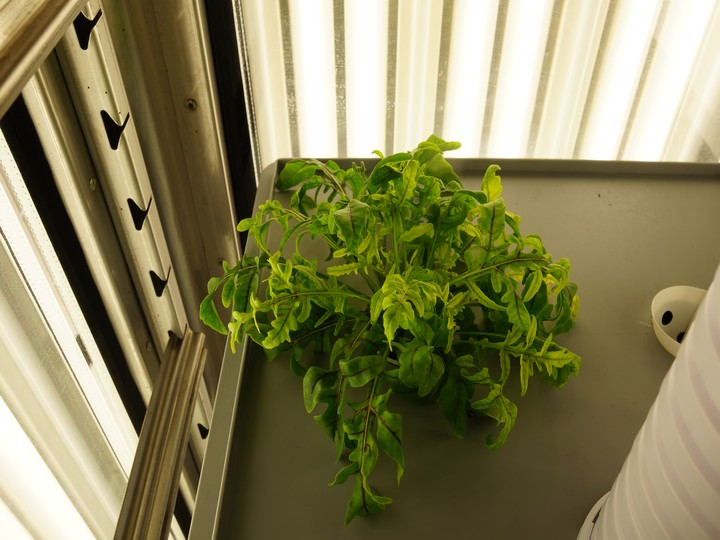roquette_sauvage_red_veined: (178, 129, 595, 527)
